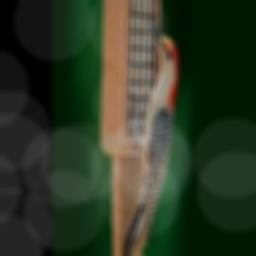Woodpecker: (122, 17, 178, 256)
